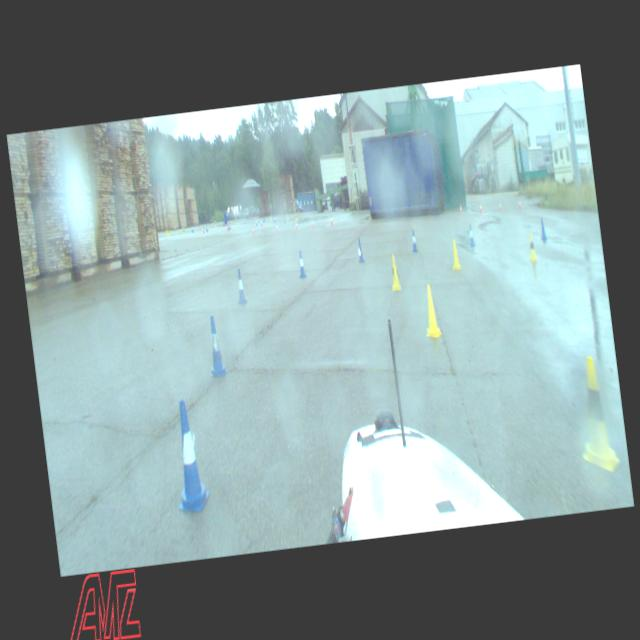blue_cone: (166, 399, 212, 514), (202, 316, 225, 376), (233, 270, 247, 304), (296, 249, 306, 278), (466, 224, 476, 246), (409, 229, 418, 252), (356, 238, 364, 262), (538, 217, 546, 240), (255, 218, 258, 226)
orange_cone: (498, 200, 502, 212), (478, 202, 482, 212), (517, 198, 521, 208), (294, 220, 298, 229), (459, 202, 462, 214), (310, 219, 314, 228), (250, 226, 253, 234), (226, 222, 229, 230), (330, 215, 332, 225), (276, 222, 278, 232), (260, 218, 262, 226), (202, 226, 204, 233)
yellow_cone: (570, 352, 621, 474), (419, 282, 442, 340), (388, 254, 400, 290), (449, 238, 461, 270), (526, 232, 536, 262)
